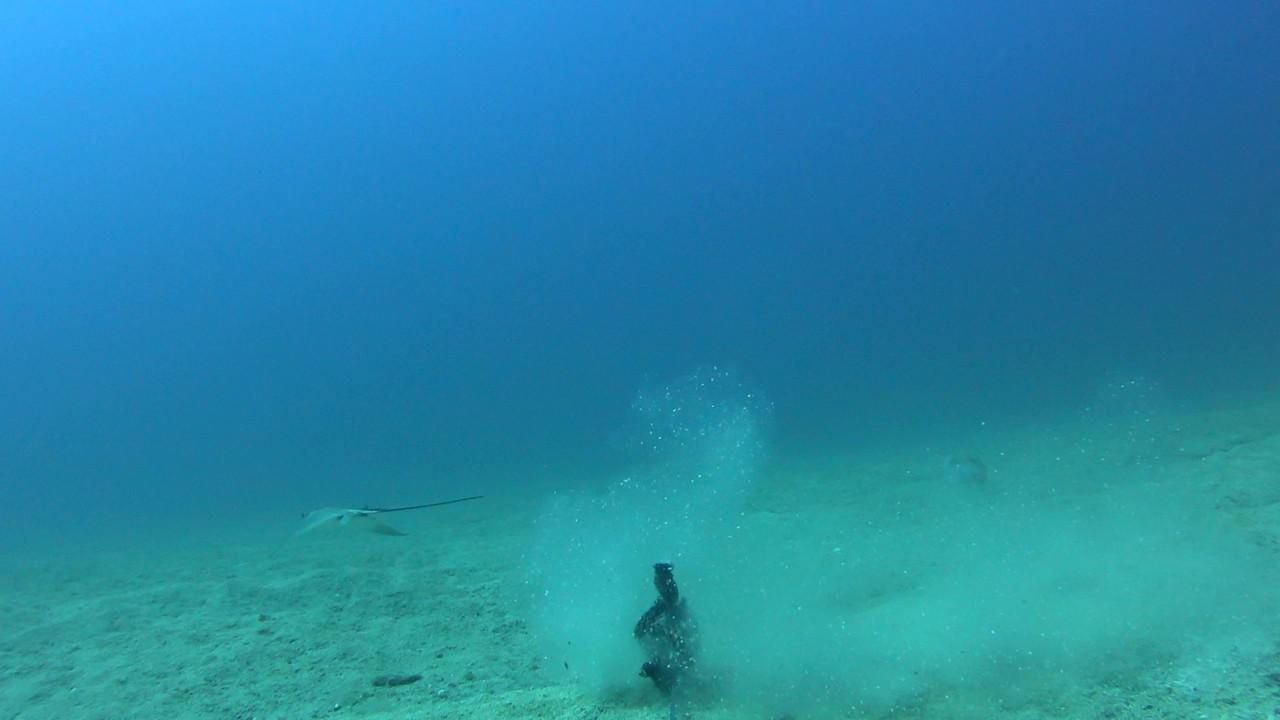myliobatis: (282, 479, 489, 547)
